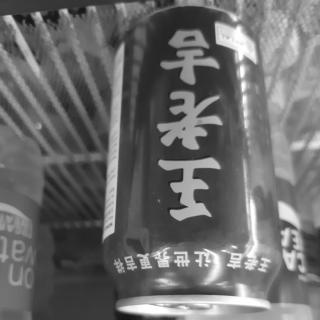alumunium_can: (66, 0, 298, 320)
